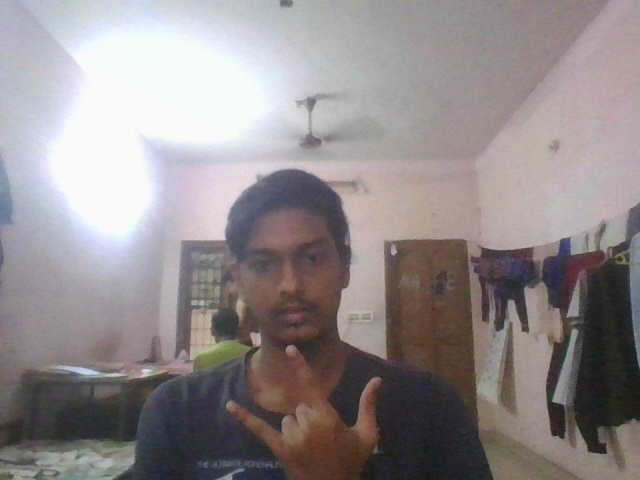iloveyou: (223, 343, 386, 480)
